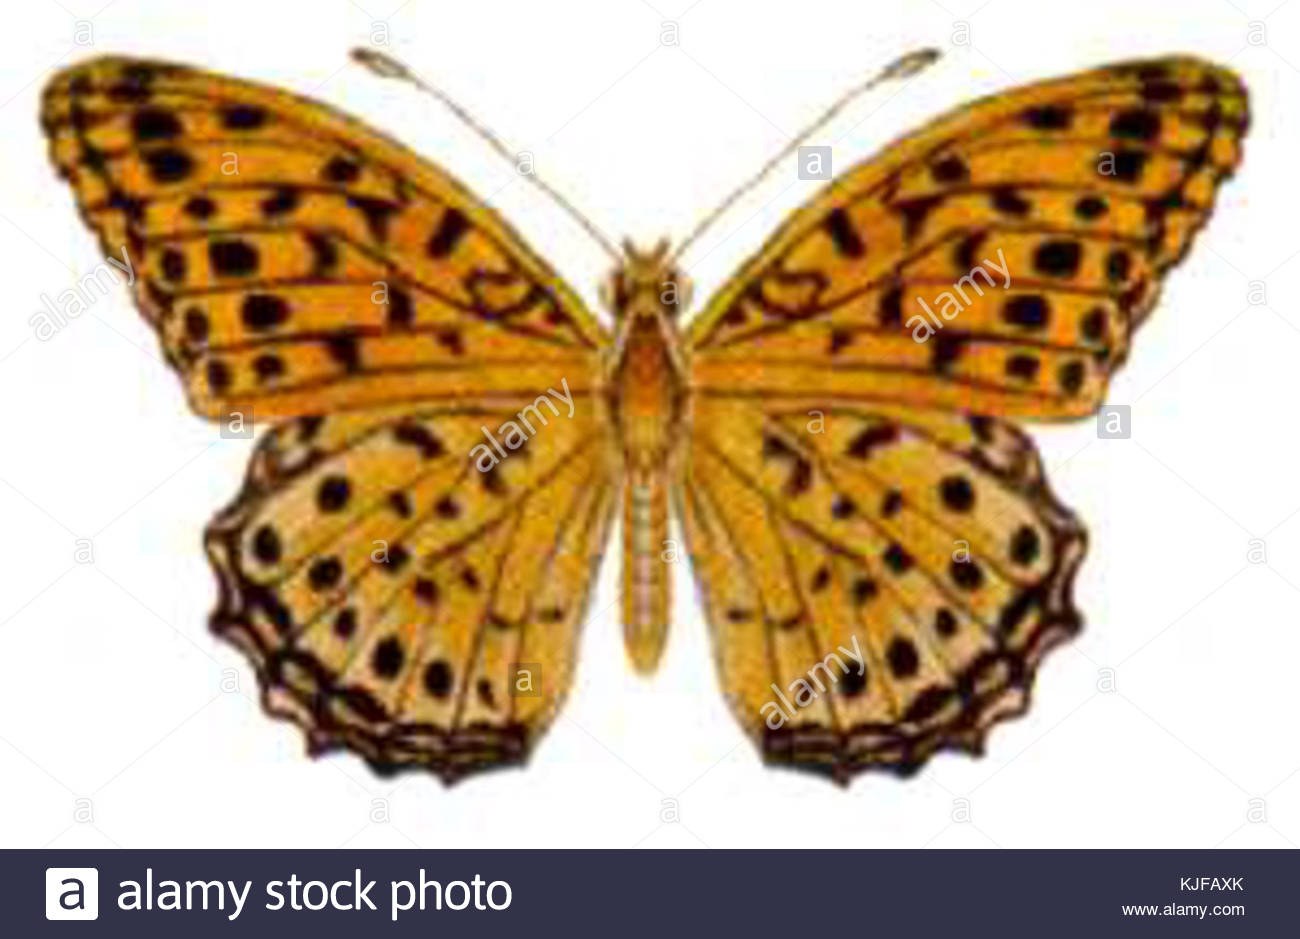Argyreus hyperbius: (33, 35, 1254, 792)
butterfly: (35, 37, 1256, 794)
